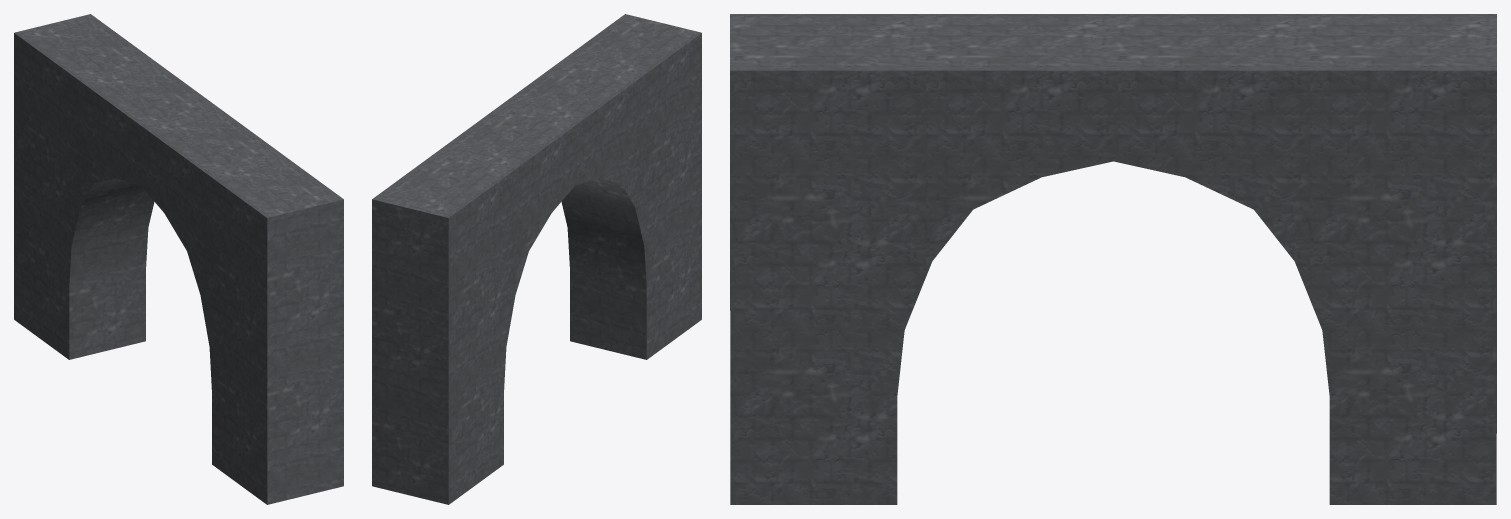
Rendered from ArchWall_8m_5_1.fbx.
The picture shows the model from 3 angles, left to right: view 1: azimuth 30°, elevation 25°; view 2: azimuth 150°, elevation 25°; view 3: azimuth 270°, elevation 25°; orthographic projection. The views are drawn at different scales.
Visible parts, largest first — view 1: ArchWall_8m_5_1.75m; view 2: ArchWall_8m_5_1.75m; view 3: ArchWall_8m_5_1.75m.
Part boxes in pixels (x1=…): ArchWall_8m_5_1.75m: x1=14, y1=14, x2=343, y2=504; ArchWall_8m_5_1.75m: x1=372, y1=14, x2=701, y2=504; ArchWall_8m_5_1.75m: x1=730, y1=14, x2=1496, y2=504.
Bounding box in the file's own units: 140 × 500 × 800.
